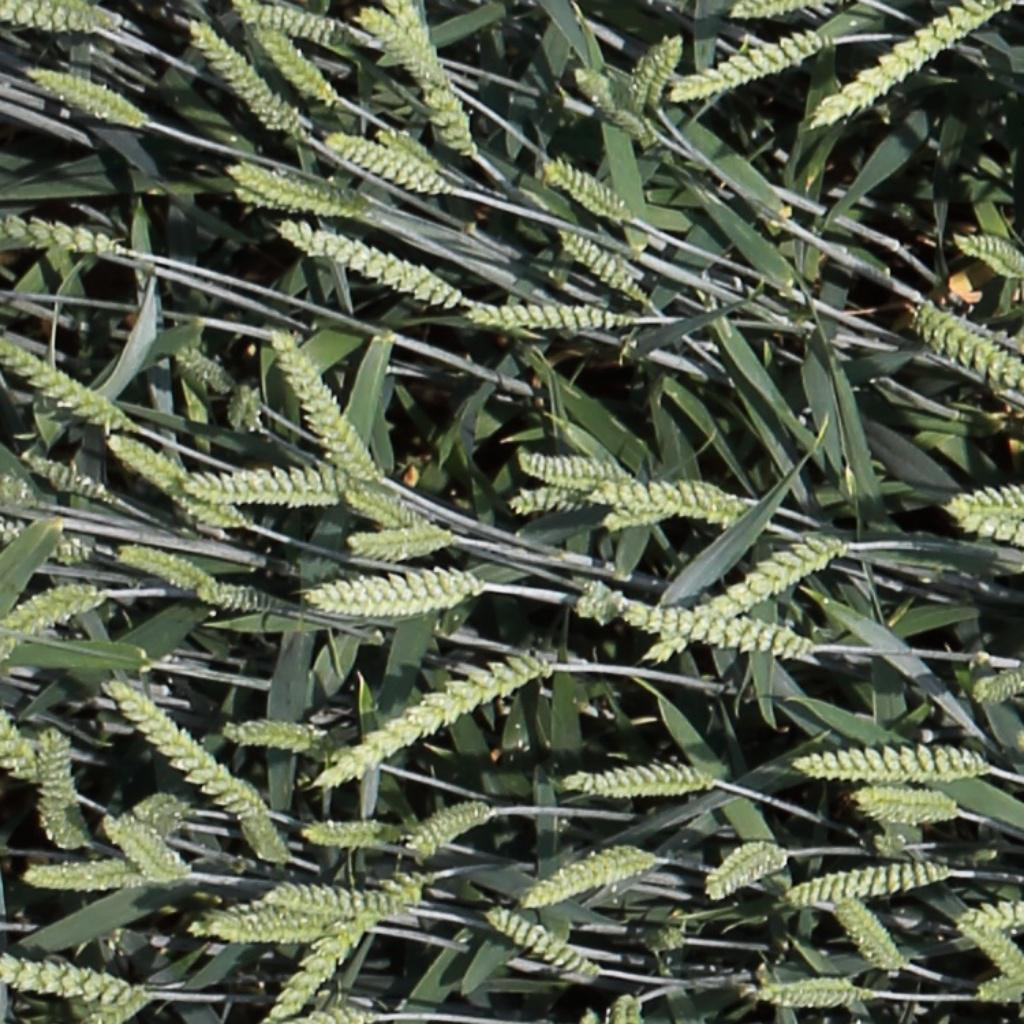0-0: (311, 653, 550, 793), (262, 866, 442, 1024), (646, 535, 842, 664), (95, 677, 273, 819), (811, 0, 1010, 122), (263, 320, 375, 484), (277, 223, 469, 314), (181, 20, 299, 140), (103, 434, 246, 530), (621, 601, 818, 666), (667, 25, 835, 99), (1, 339, 126, 428), (910, 305, 1024, 395), (301, 568, 483, 620), (790, 736, 989, 783), (520, 844, 658, 907), (225, 161, 372, 219), (484, 909, 605, 979), (2, 947, 143, 1004), (569, 64, 667, 143), (30, 65, 146, 130), (356, 5, 442, 87), (1, 582, 96, 656), (326, 131, 443, 191), (555, 226, 645, 303), (180, 469, 359, 507), (580, 480, 743, 521), (253, 27, 335, 107), (39, 724, 90, 850), (255, 877, 401, 920), (830, 894, 905, 976), (465, 298, 633, 334), (787, 864, 941, 903), (234, 2, 365, 46), (99, 815, 177, 883), (542, 158, 628, 218), (0, 210, 121, 252), (704, 841, 789, 899), (417, 75, 477, 157), (628, 27, 684, 113), (559, 765, 714, 796), (505, 473, 610, 517), (959, 918, 1024, 989), (23, 451, 111, 503), (20, 860, 145, 895), (846, 786, 961, 823), (516, 454, 643, 487), (405, 804, 488, 854), (117, 546, 206, 591), (342, 487, 428, 533), (0, 518, 91, 560), (755, 975, 871, 1007), (346, 524, 454, 558), (218, 721, 329, 753), (0, 1, 113, 32), (0, 704, 42, 783), (954, 232, 1024, 278), (298, 820, 396, 852), (962, 513, 1024, 563), (170, 345, 232, 391), (947, 481, 1024, 517), (122, 791, 192, 828), (375, 124, 436, 166), (600, 506, 684, 533), (195, 583, 274, 611), (225, 375, 258, 439), (231, 183, 298, 214), (977, 664, 1024, 704), (962, 901, 1024, 929), (640, 923, 689, 954), (976, 972, 1022, 1004), (730, 0, 811, 16), (608, 985, 638, 1024)
